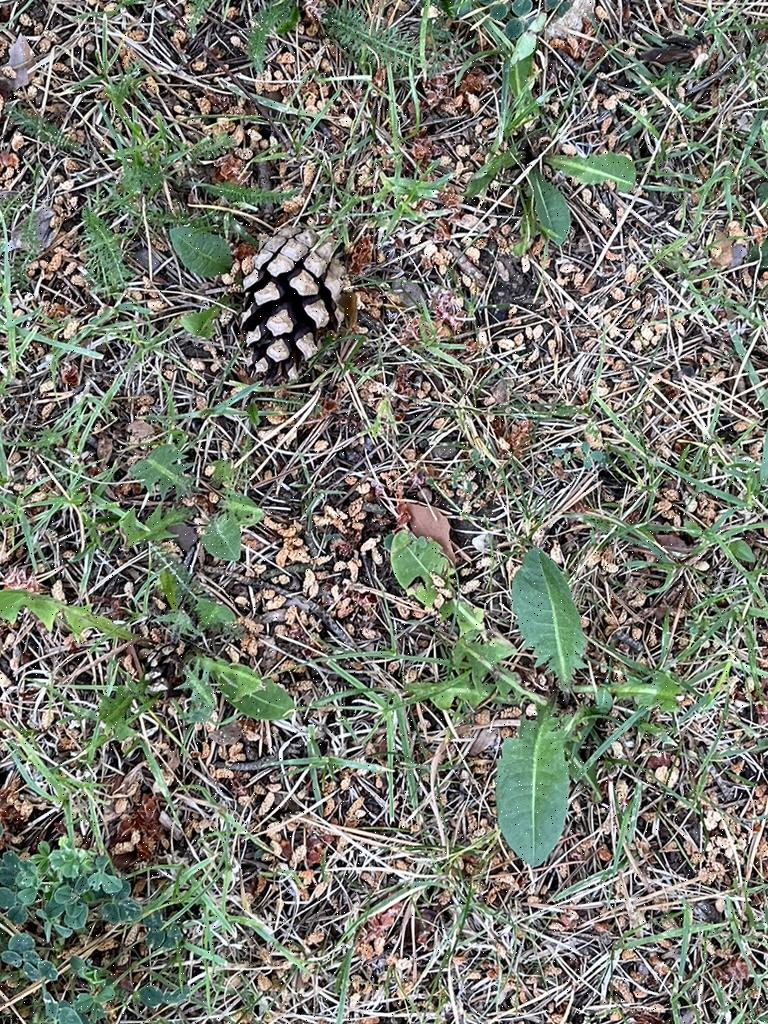pine: (228, 216, 361, 406)
